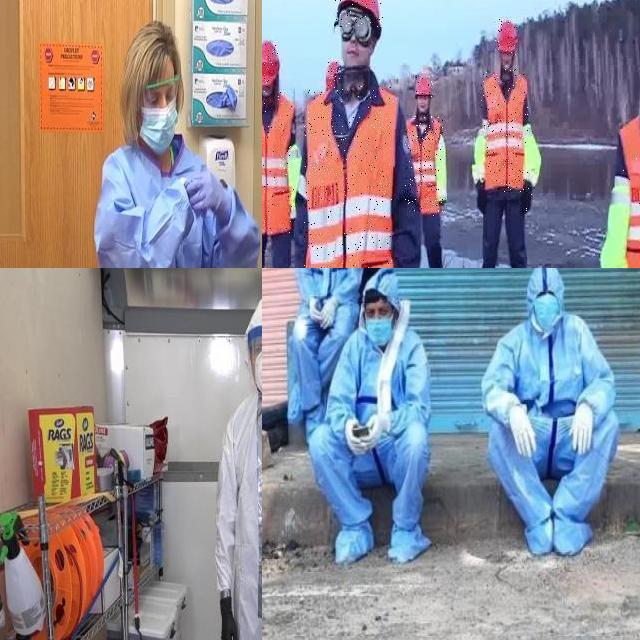Glove: (182, 162, 238, 241), (506, 402, 541, 460), (567, 402, 598, 454), (219, 596, 240, 640)
HELMET: (334, 0, 384, 27), (496, 18, 518, 55), (262, 39, 279, 83), (415, 72, 433, 99), (326, 60, 341, 84)
MASK: (141, 104, 179, 152), (536, 292, 561, 326), (367, 318, 393, 348), (254, 349, 262, 393)
VEST: (302, 83, 394, 268), (481, 70, 529, 194), (262, 91, 294, 236), (405, 116, 443, 216), (618, 113, 640, 268)
